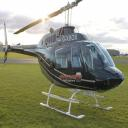helicopter: (4, 2, 127, 121)
